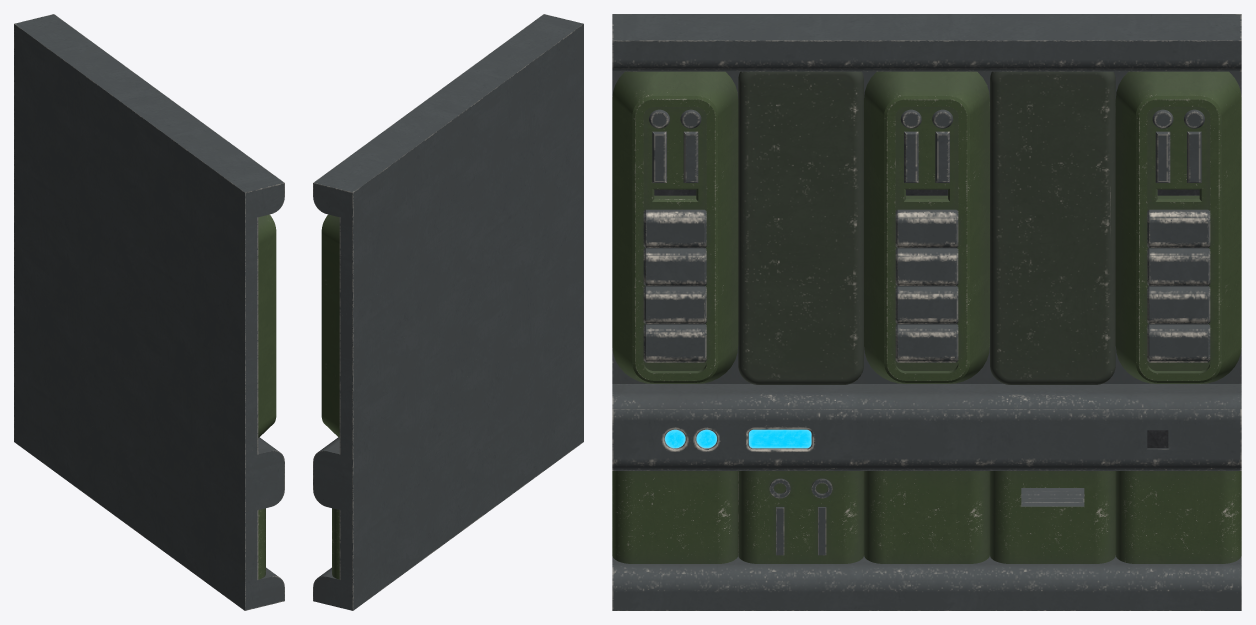
3 renders of one model, left to right at view 1: azimuth 30°, elevation 25°; view 2: azimuth 150°, elevation 25°; view 3: azimuth 270°, elevation 25°, orthographic. The views are drawn at different scales.
Visible parts, largest first — view 1: Back, Box, Humps; view 2: Back, Box.002, Humps; view 3: Back, Humps, Panel 2, Panel 2 (1), Box, Box.002, Box.001, Boxes.001, Boxes, Boxes.002, Grill.
Part boxes in pixels (x1,y1,x2,y2): Back: (14,14,284,610); Box: (258,214,276,437); Humps: (258,508,265,579); Back: (313,14,583,610); Box.002: (321,214,339,437); Humps: (332,508,339,579); Back: (612,14,1241,610); Humps: (612,471,1241,563); Panel 2: (738,71,863,384); Panel 2 (1): (990,71,1115,384); Box: (612,71,738,383); Box.002: (1115,71,1241,383); Box.001: (864,71,989,383); Boxes.001: (895,209,958,362); Boxes: (643,209,706,362); Boxes.002: (1147,209,1210,362); Grill: (1021,488,1084,506).
Size of the model in its own units: 32.5 by 300 by 300.
Materials: 4 (4 with a texture image).
